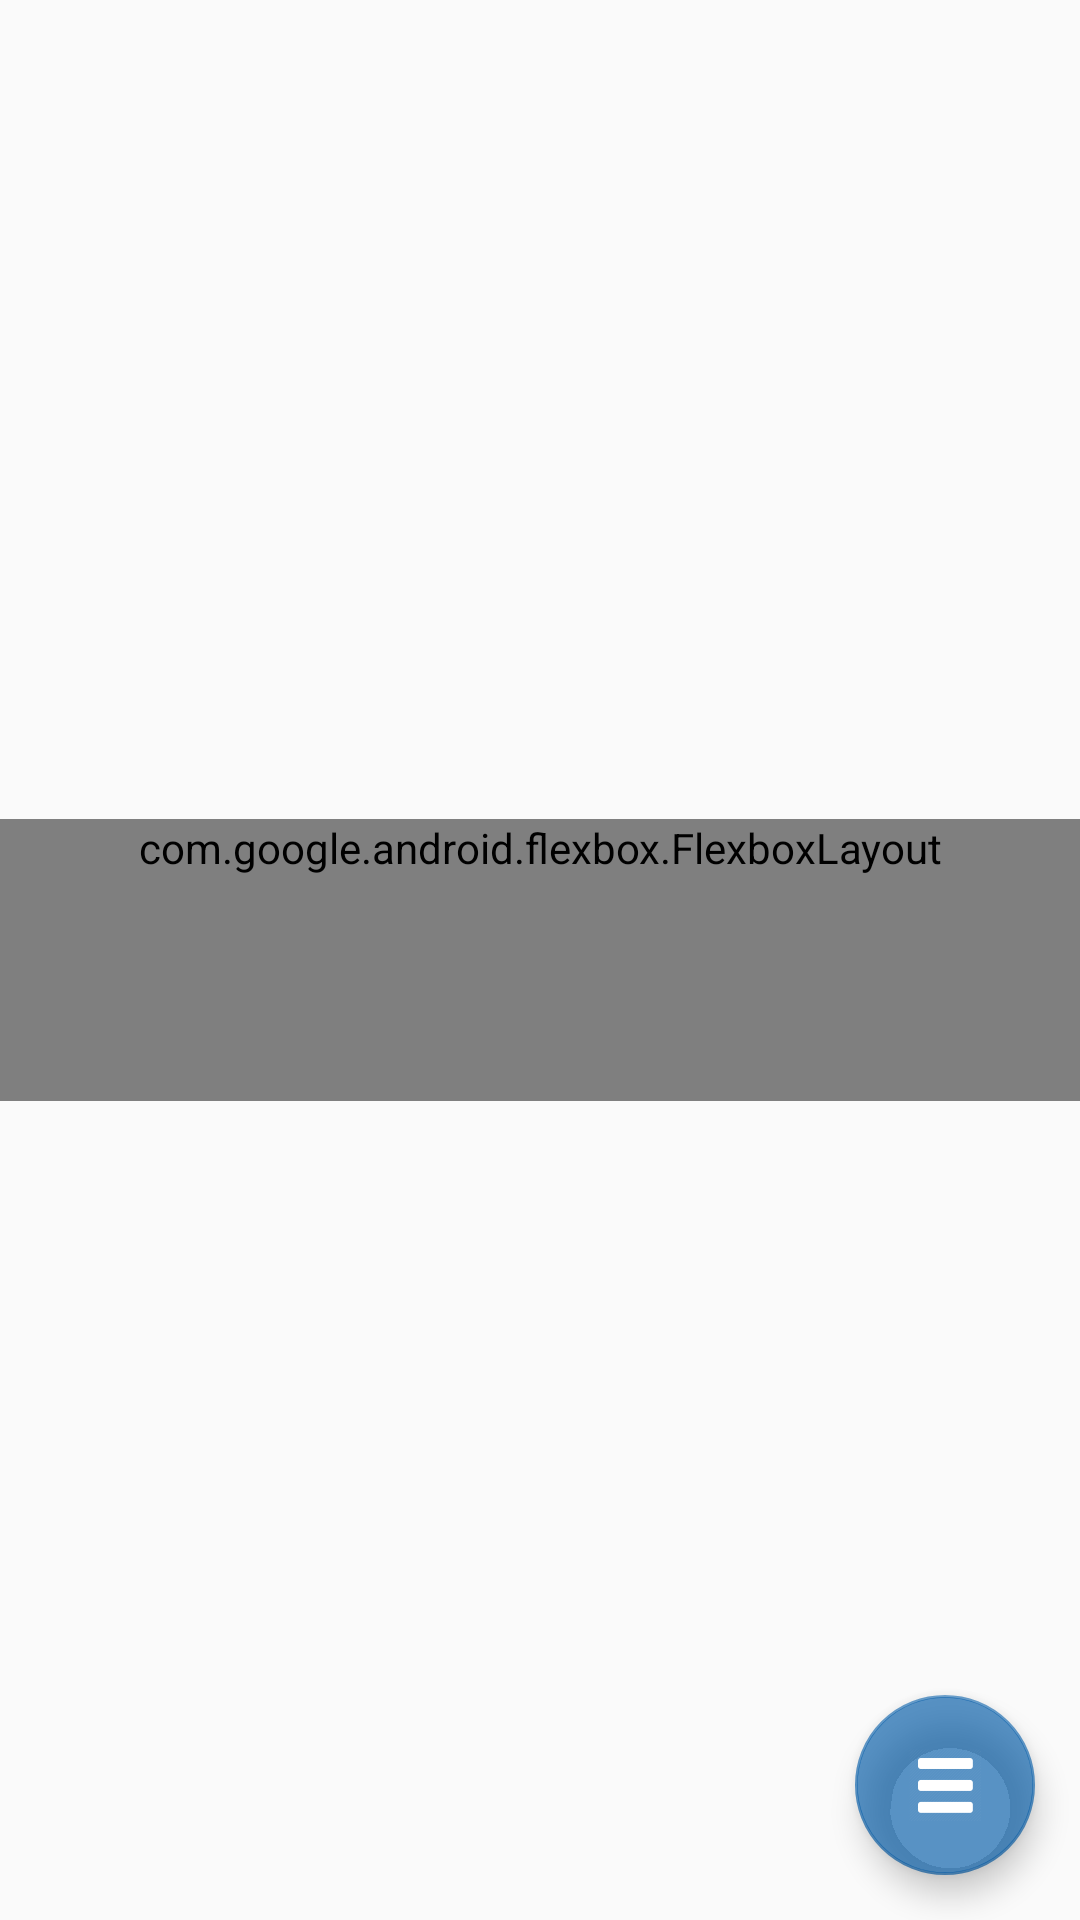

Icon bounding boxes for this 1080px x 1920px phone screenshot, format (x1, y1, x2, y2):
list: (855, 1695, 1035, 1875)
